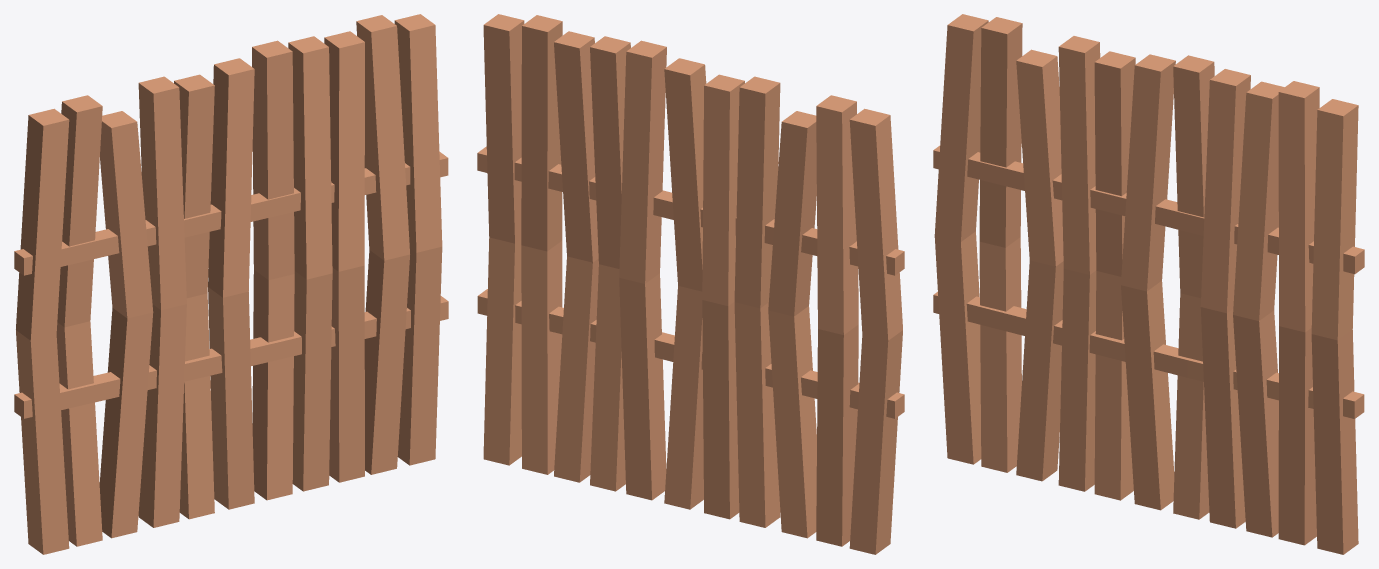
The model's file is tallfence.fbx.
The picture shows the model from 3 angles, left to right: view 1: azimuth 30°, elevation 25°; view 2: azimuth 150°, elevation 25°; view 3: azimuth 330°, elevation 25°; orthographic projection.
Parts seen in each view (by area): view 1: tallfence; view 2: tallfence; view 3: tallfence.
Part boxes in pixels (box(x1,y1,x2,y2)): tallfence: box(14, 14, 448, 554); tallfence: box(477, 14, 904, 554); tallfence: box(933, 14, 1364, 554).
Bounding box in the file's own units: 2.62 × 2.63 × 0.2856.
